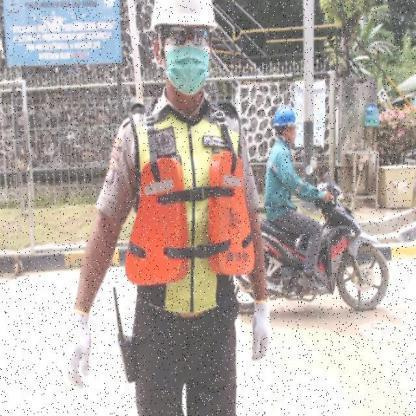gloves: (60, 305, 96, 393), (248, 297, 276, 367)
goggles: (164, 29, 210, 47)
helmet: (154, 1, 218, 32), (270, 102, 301, 135)
mask: (162, 46, 212, 92)
vest: (124, 147, 256, 286)
